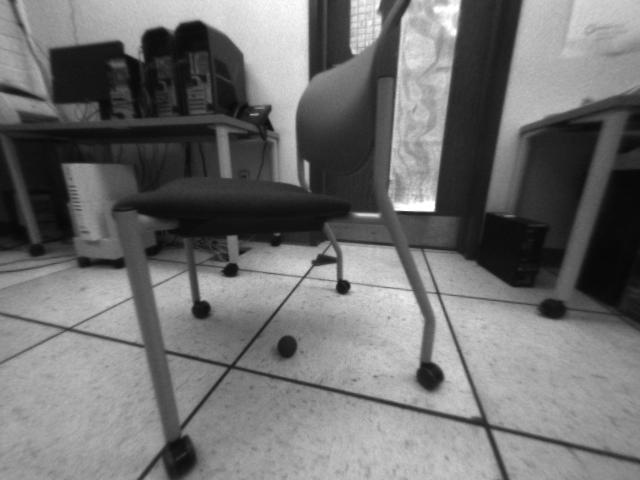dogtoy: (268, 328, 308, 365)
